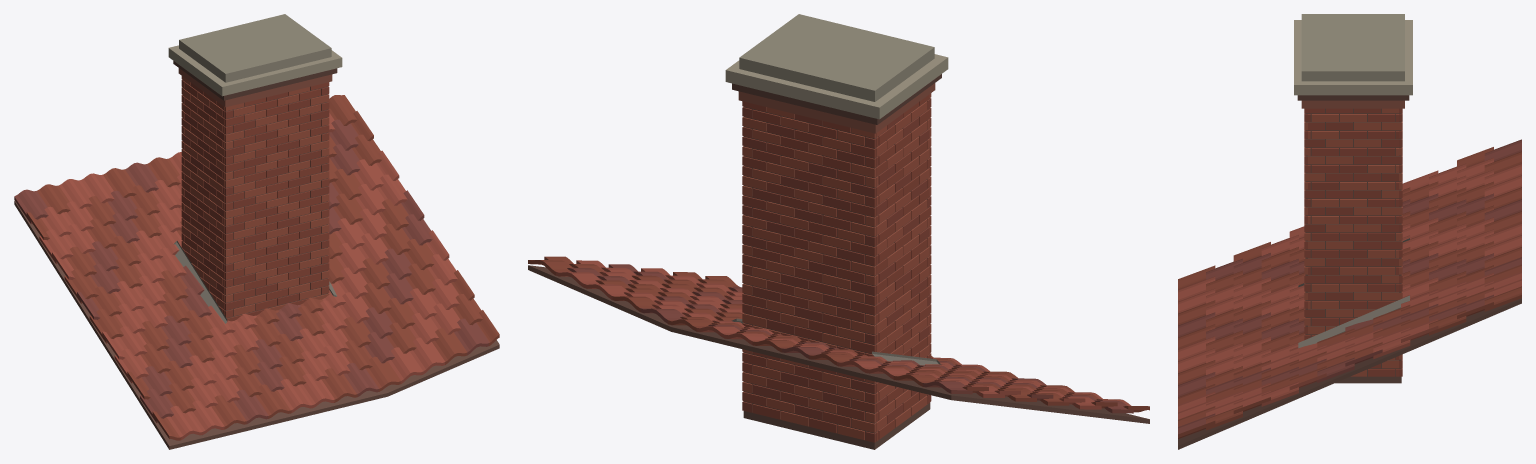
The model's file is yangpu-pingliang-250-hip-roof-chimney-raw.glb.
3 renders of one model, left to right at view 1: azimuth 30°, elevation 25°; view 2: azimuth 150°, elevation 25°; view 3: azimuth 270°, elevation 25°, orthographic. The views are drawn at different scales.
Parts seen in each view (by area): view 1: 平凉路250号住宅红砖烟囱与斜坡瓦面; view 2: 平凉路250号住宅红砖烟囱与斜坡瓦面; view 3: 平凉路250号住宅红砖烟囱与斜坡瓦面.
Part boxes in pixels (x1=…): 平凉路250号住宅红砖烟囱与斜坡瓦面: x1=14, y1=14, x2=499, y2=449; 平凉路250号住宅红砖烟囱与斜坡瓦面: x1=528, y1=14, x2=1149, y2=449; 平凉路250号住宅红砖烟囱与斜坡瓦面: x1=1178, y1=14, x2=1521, y2=449.
Size of the model in its own units: 3.52 by 3.13 by 2.86.
